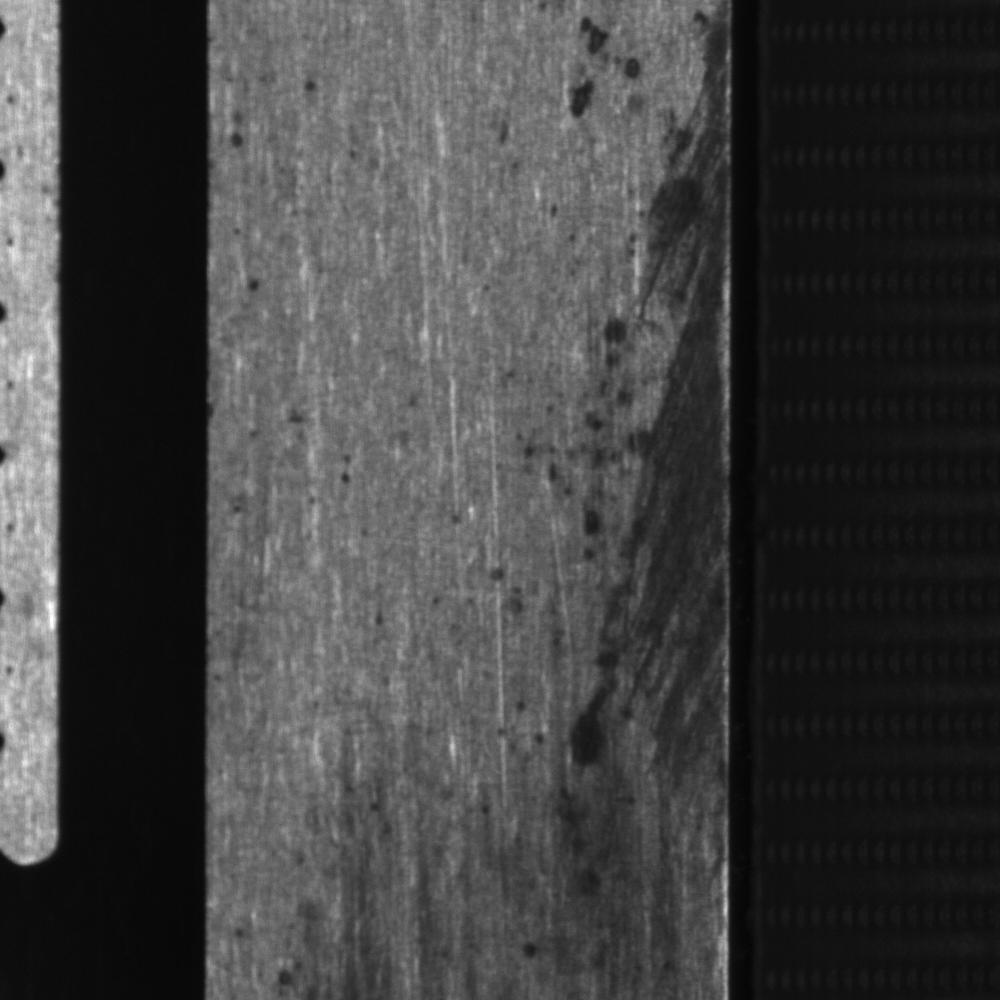Discolor: (549, 10, 730, 576), (260, 681, 535, 979), (544, 582, 728, 991)
Etching: (207, 27, 326, 210)
Pinhole: (231, 245, 293, 319)
